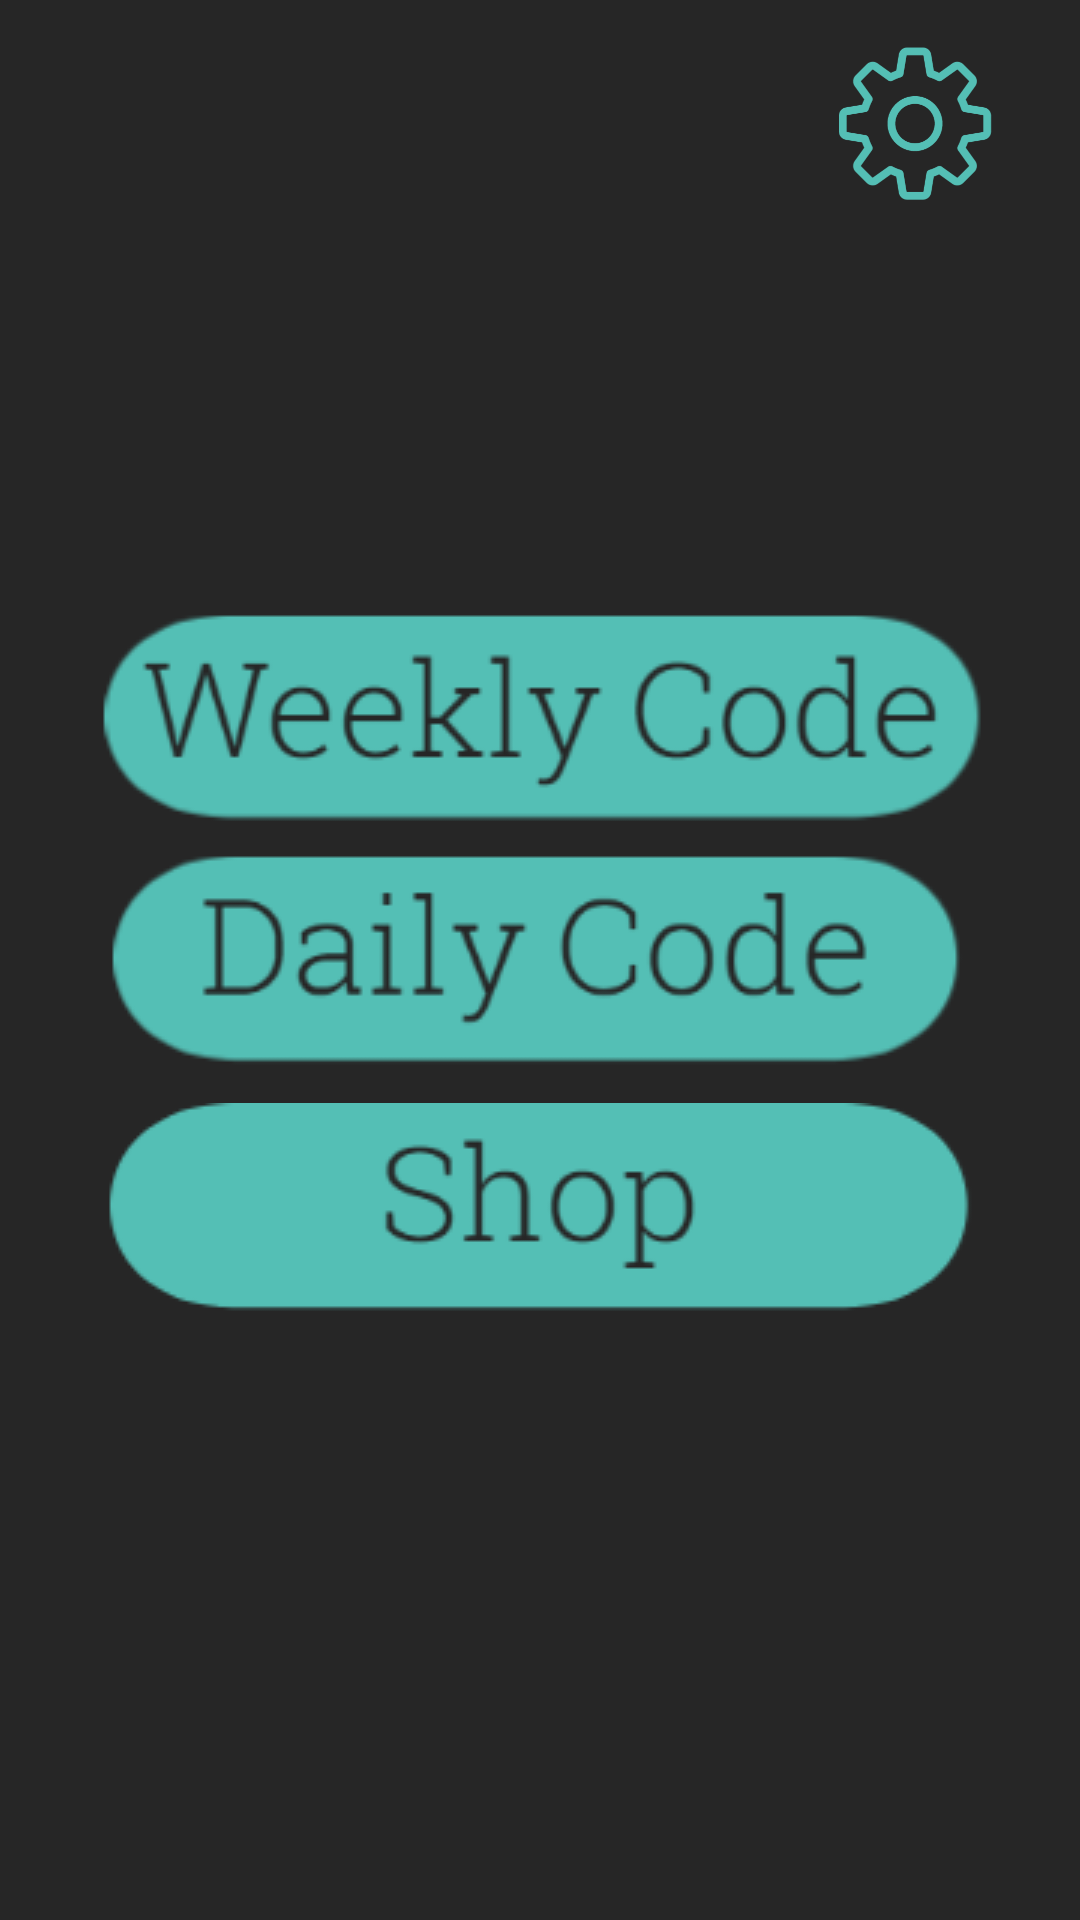

Locate icon controls on the screen. Image size 1080 × 1920, boxes as (x1, y1, x2, y2).
settings: (839, 47, 992, 200)
